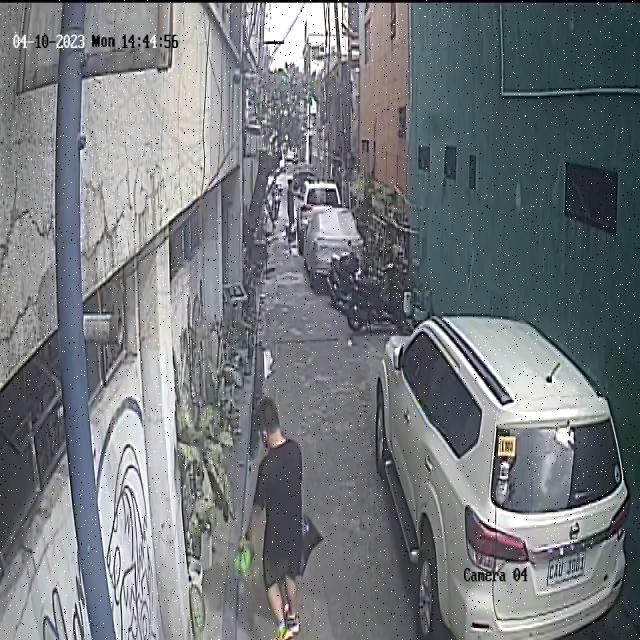garbage_dumping: (304, 494, 321, 580), (228, 537, 256, 579)
